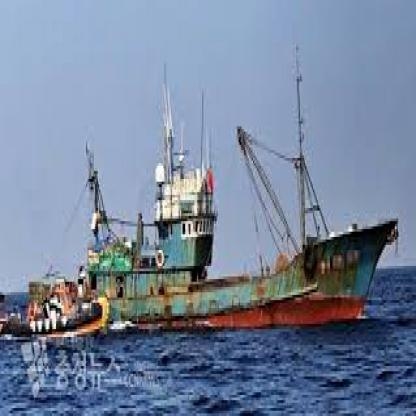fish-b: (78, 32, 406, 337)
